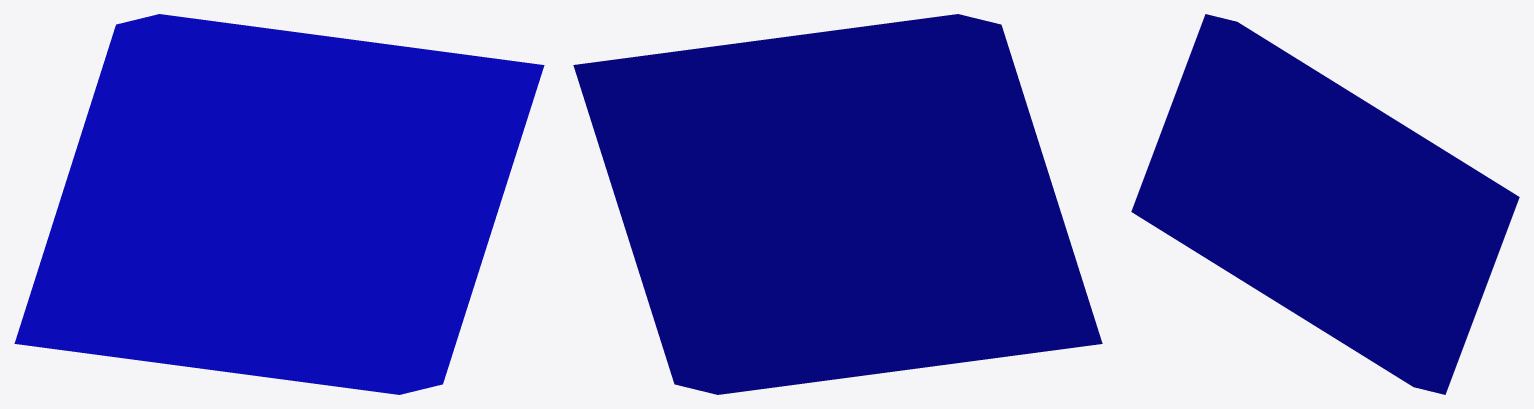
The model's file is planes.obj.
3 renders of one model, left to right at view 1: azimuth 30°, elevation 25°; view 2: azimuth 150°, elevation 25°; view 3: azimuth 330°, elevation 25°, orthographic. The views are drawn at different scales.
Parts seen in each view (by area): view 1: 1-dynamic_-_BLK2GO-3630355-Scan_080_28_0; view 2: 1-dynamic_-_BLK2GO-3630355-Scan_080_28_0; view 3: 1-dynamic_-_BLK2GO-3630355-Scan_080_28_0.
Part boxes in pixels (x1,y1,x2,y2): 1-dynamic_-_BLK2GO-3630355-Scan_080_28_0: [14, 14, 544, 394]; 1-dynamic_-_BLK2GO-3630355-Scan_080_28_0: [573, 14, 1102, 394]; 1-dynamic_-_BLK2GO-3630355-Scan_080_28_0: [1131, 14, 1519, 394].
Size of the model in its own units: 12.33 by 9.77 by 0.00854.
